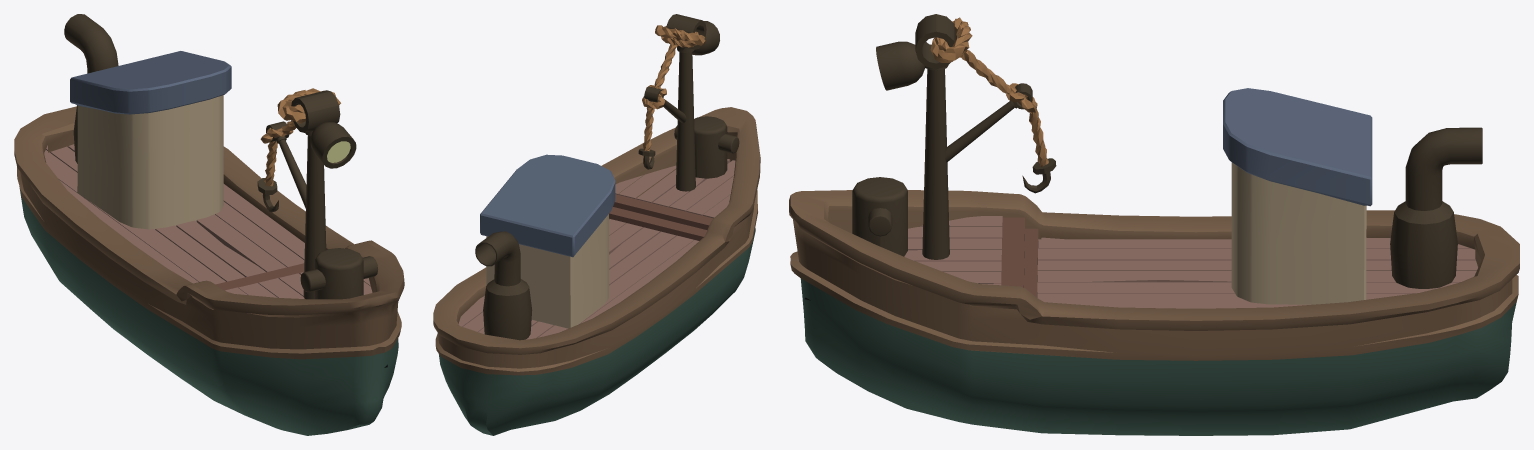
The model's file is FishingBoat.fbx.
3 renders of one model, left to right at view 1: azimuth 30°, elevation 25°; view 2: azimuth 150°, elevation 25°; view 3: azimuth 270°, elevation 25°, orthographic. The views are drawn at different scales.
Parts seen in each view (by area): view 1: Cube, Plane, FloorLower, Circle, Circle.001, Chiminey, Rope, Light, FloorLower.001, Stair.025; view 2: Cube, Plane, FloorLower, Chiminey, FloorLower.001, Circle, Stair.025, Circle.001, Rope, Light; view 3: Cube, Plane, FloorLower, Chiminey, Circle, FloorLower.001, Circle.001, Rope, Stair.025, Light.
Boxes of the visible parts, x1,y1,x2,y2 form: Cube: [14, 106, 404, 435]; Plane: [70, 51, 231, 229]; FloorLower: [44, 144, 304, 284]; Circle: [266, 90, 340, 299]; Circle.001: [300, 248, 377, 299]; Chiminey: [64, 14, 118, 163]; Rope: [257, 88, 340, 212]; Light: [310, 122, 356, 168]; FloorLower.001: [225, 272, 372, 298]; Stair.025: [215, 263, 304, 290]; Cube: [433, 107, 760, 435]; Plane: [480, 154, 615, 328]; FloorLower: [458, 218, 698, 339]; Chiminey: [475, 231, 532, 340]; FloorLower.001: [615, 159, 735, 218]; Circle: [644, 14, 706, 191]; Stair.025: [609, 193, 712, 240]; Circle.001: [674, 116, 739, 178]; Rope: [638, 25, 705, 169]; Light: [692, 21, 719, 55]; Cube: [789, 190, 1519, 435]; Plane: [1223, 88, 1372, 304]; FloorLower: [1037, 237, 1477, 308]; Chiminey: [1390, 127, 1482, 288]; Circle: [915, 14, 1032, 259]; FloorLower.001: [904, 216, 1002, 285]; Circle.001: [852, 177, 907, 256]; Rope: [930, 17, 1056, 193]; Stair.025: [994, 217, 1038, 297]; Light: [876, 41, 924, 90].
Size of the model in its own units: 107 by 191 by 317.
